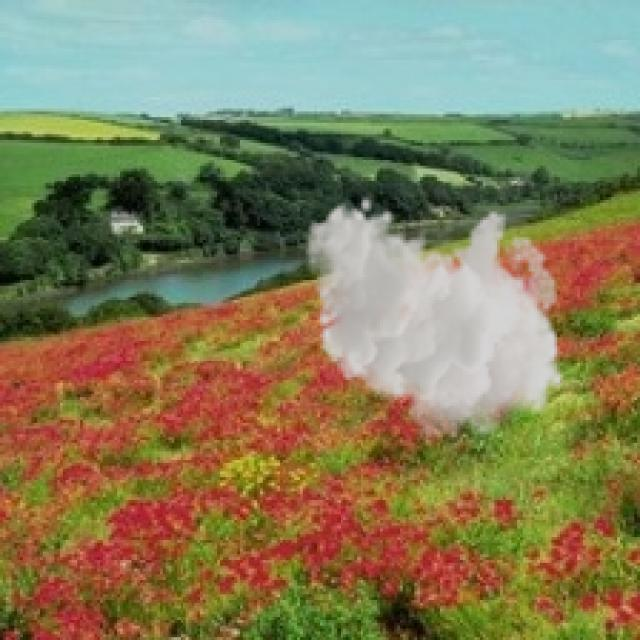Smoke: (306, 194, 566, 449)
